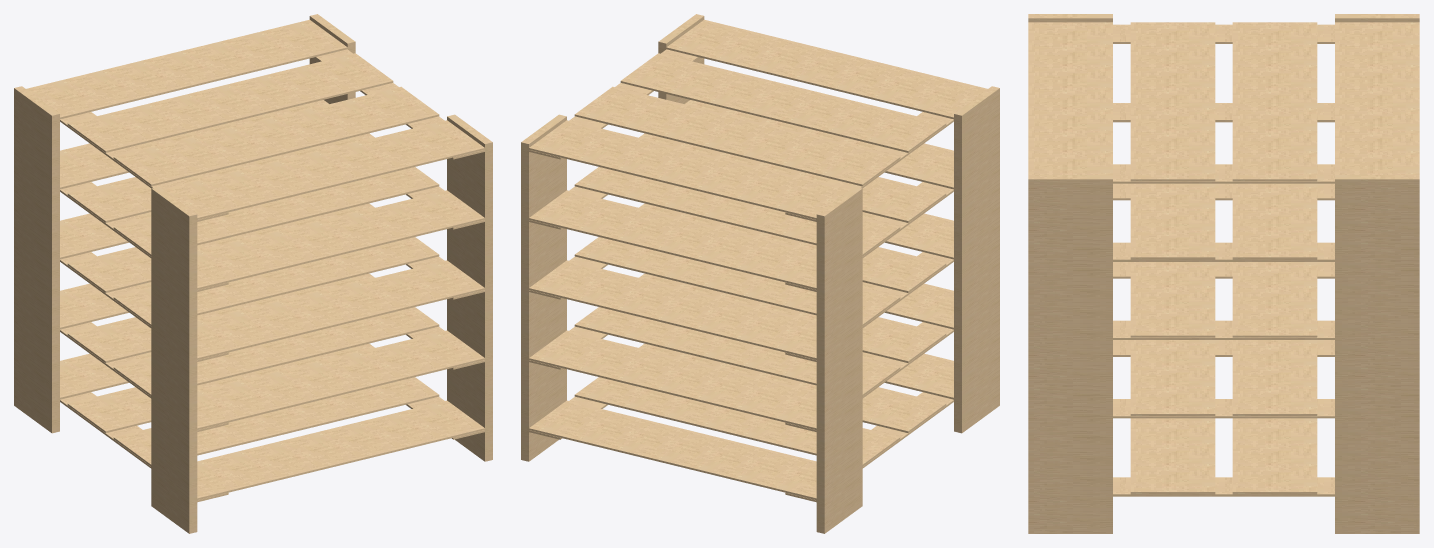
Rendered from sh-contrib-shelves-storage-wood2.glb.
The picture shows the model from 3 angles, left to right: view 1: azimuth 30°, elevation 25°; view 2: azimuth 150°, elevation 25°; view 3: azimuth 270°, elevation 25°; orthographic projection. The views are drawn at different scales.
Parts seen in each view (by area): view 1: 1_1; view 2: 1_1; view 3: 1_1.
Part boxes in pixels (left/top/right/bottom): 1_1: left=14, top=14, right=492, bottom=533; 1_1: left=521, top=14, right=999, bottom=533; 1_1: left=1028, top=14, right=1419, bottom=533.
Bounding box in the file's own units: 1 × 1 × 1.
1 material, 1 textured.
